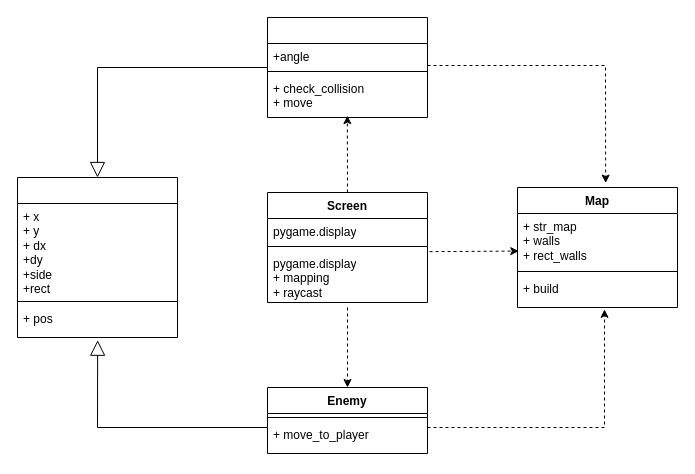
Some shapes in this 695 by 474 pixel diagram are drawn without their labels. The box of each missing label's shape, as (x1, y1, x2, y2) in pixels:
Entity: (16, 176, 178, 338)
Player: (266, 16, 428, 118)
